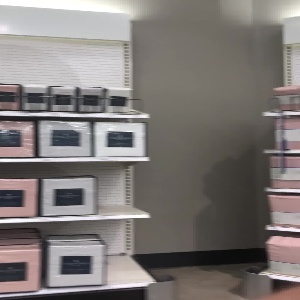void: (101, 219, 155, 284), (99, 162, 150, 216)
